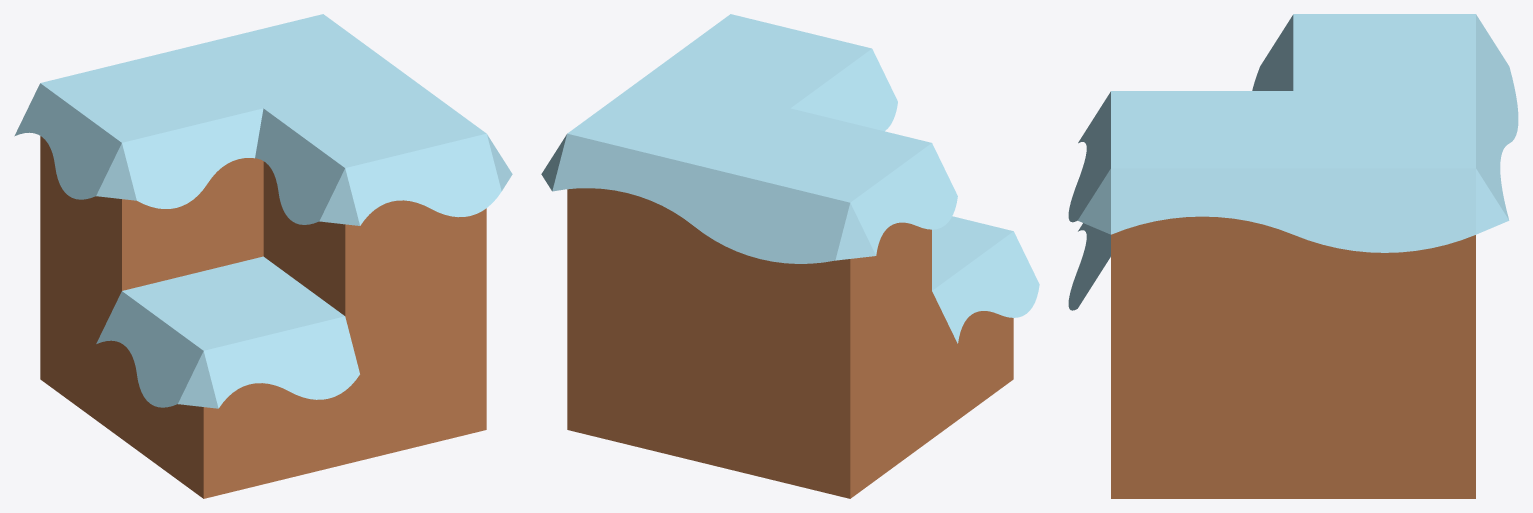
Rendered from blockSnowLevel.fbx.
The picture shows the model from 3 angles, left to right: view 1: azimuth 30°, elevation 25°; view 2: azimuth 150°, elevation 25°; view 3: azimuth 270°, elevation 25°; orthographic projection. The views are drawn at different scales.
Visible parts, largest first — view 1: blockSnowLevel; view 2: blockSnowLevel; view 3: blockSnowLevel.
Boxes of the visible parts, x1,y1,x2,y2 form: blockSnowLevel: [14, 14, 512, 498]; blockSnowLevel: [541, 14, 1039, 498]; blockSnowLevel: [1068, 14, 1518, 498].
Bounding box in the file's own units: 12.33 × 10 × 12.33.
